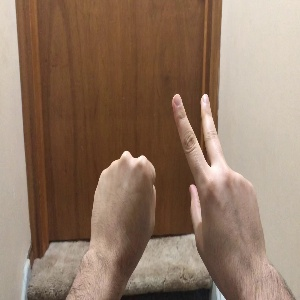hand: (172, 94, 267, 262), (91, 146, 157, 257)
